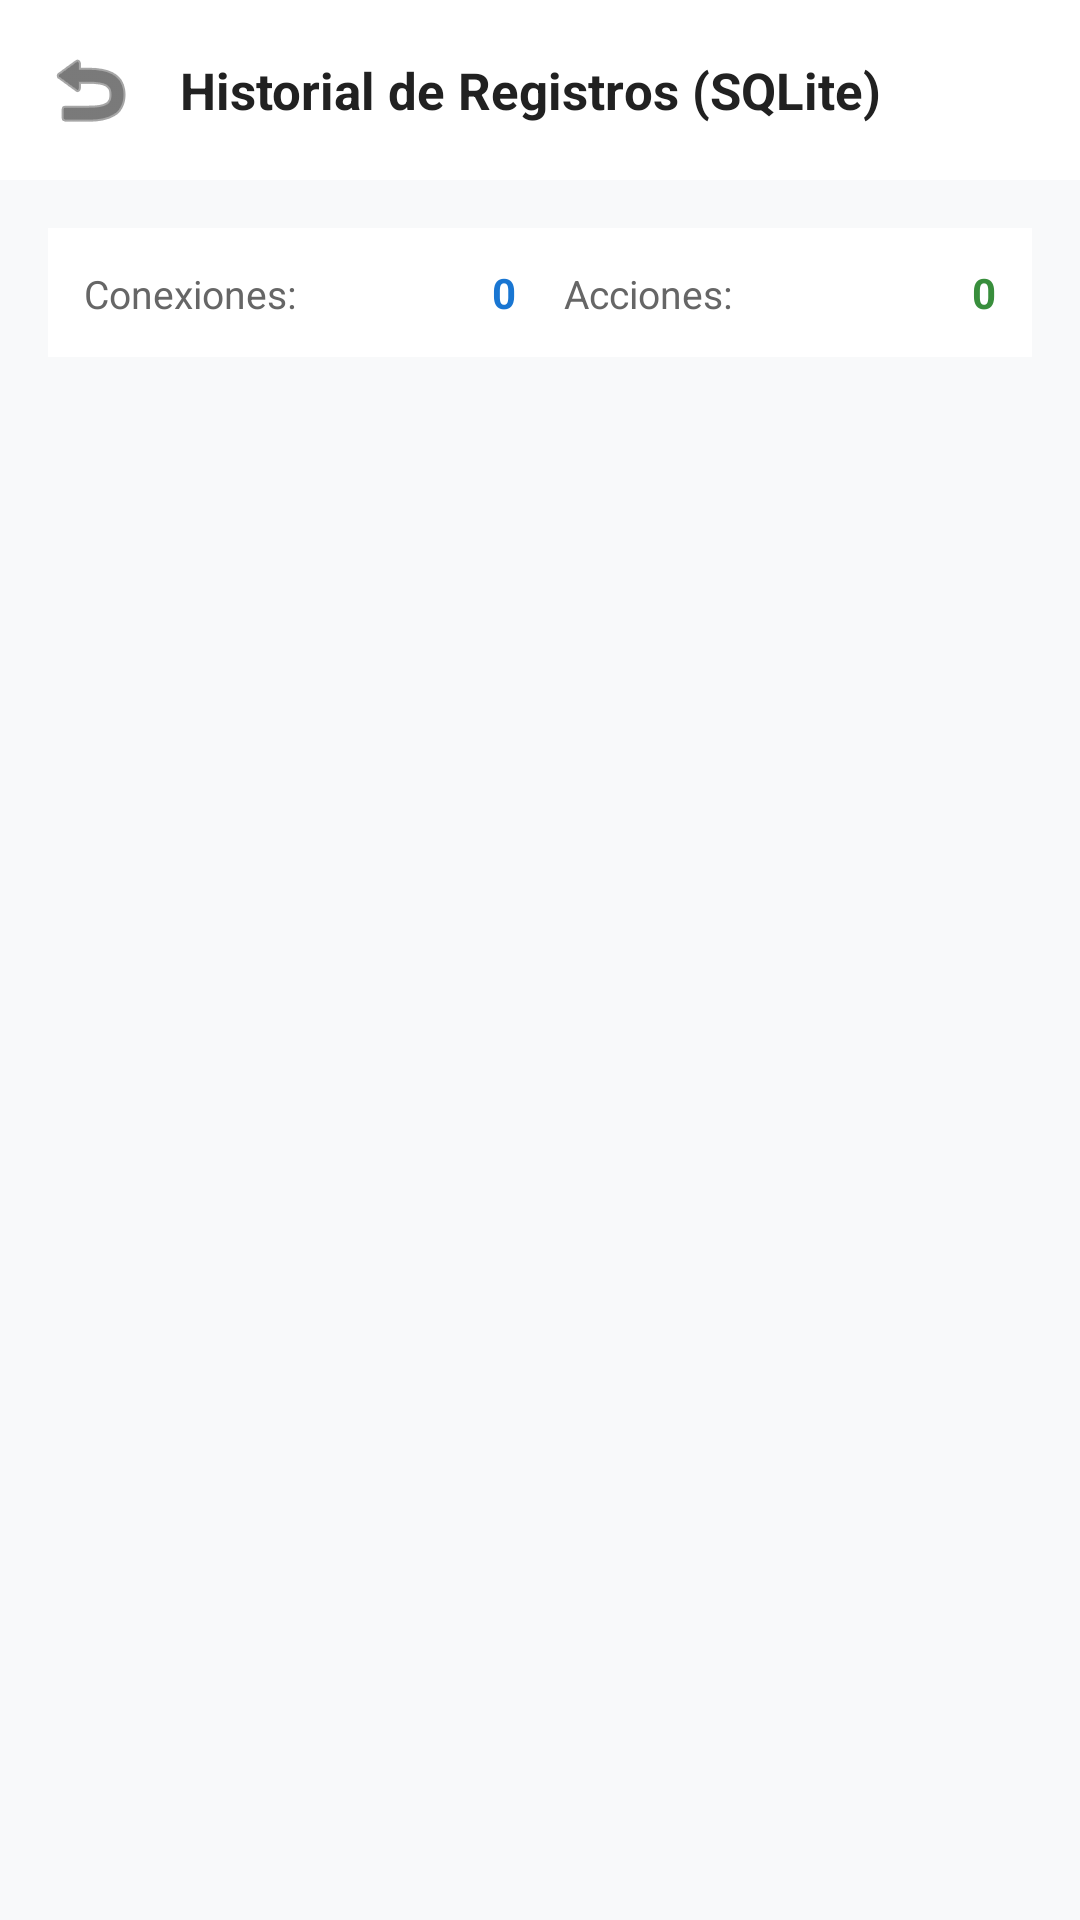

Named icons in this screenshot (1080x1920) and their centers, point (x, y):
Volver: point (91, 90)
